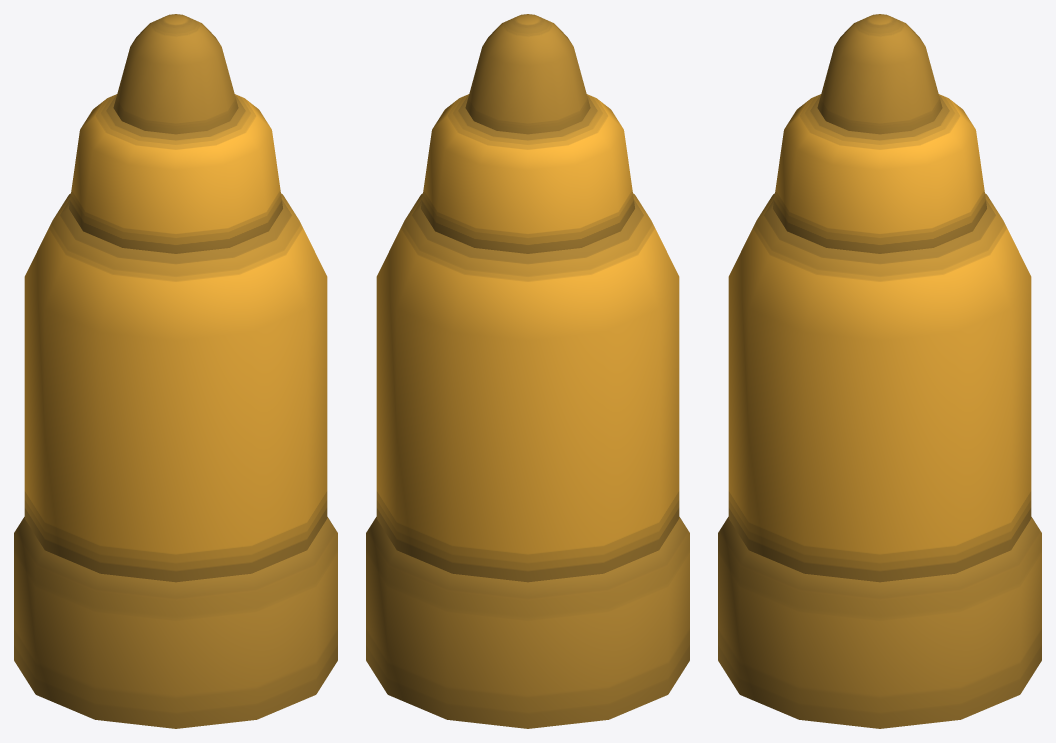
Rendered from Bullet.fbx.
3 renders of one model, left to right at view 1: azimuth 30°, elevation 25°; view 2: azimuth 150°, elevation 25°; view 3: azimuth 270°, elevation 25°, orthographic.
Visible parts, largest first — view 1: Cylinder; view 2: Cylinder; view 3: Cylinder.
Part boxes in pixels (box(x1,y1,x2,y2)): Cylinder: box(14, 14, 337, 728); Cylinder: box(366, 14, 689, 728); Cylinder: box(718, 14, 1041, 728).
Bounding box in the file's own units: 52.4 × 114 × 52.4.
